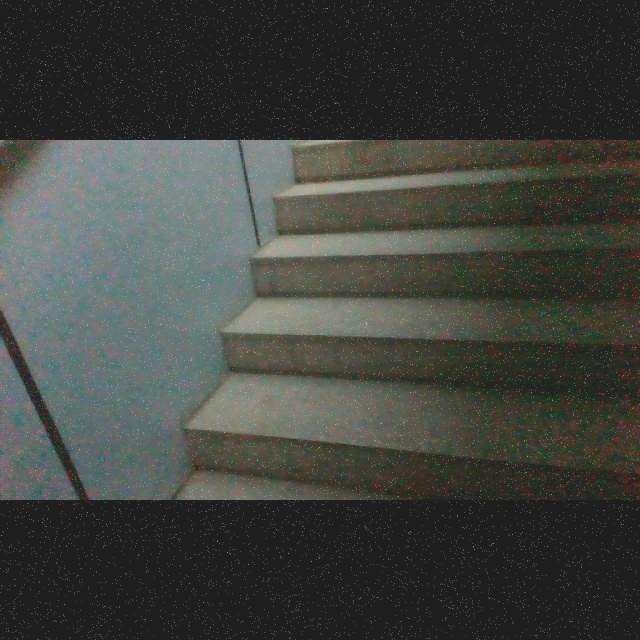stair: (170, 142, 640, 491)
